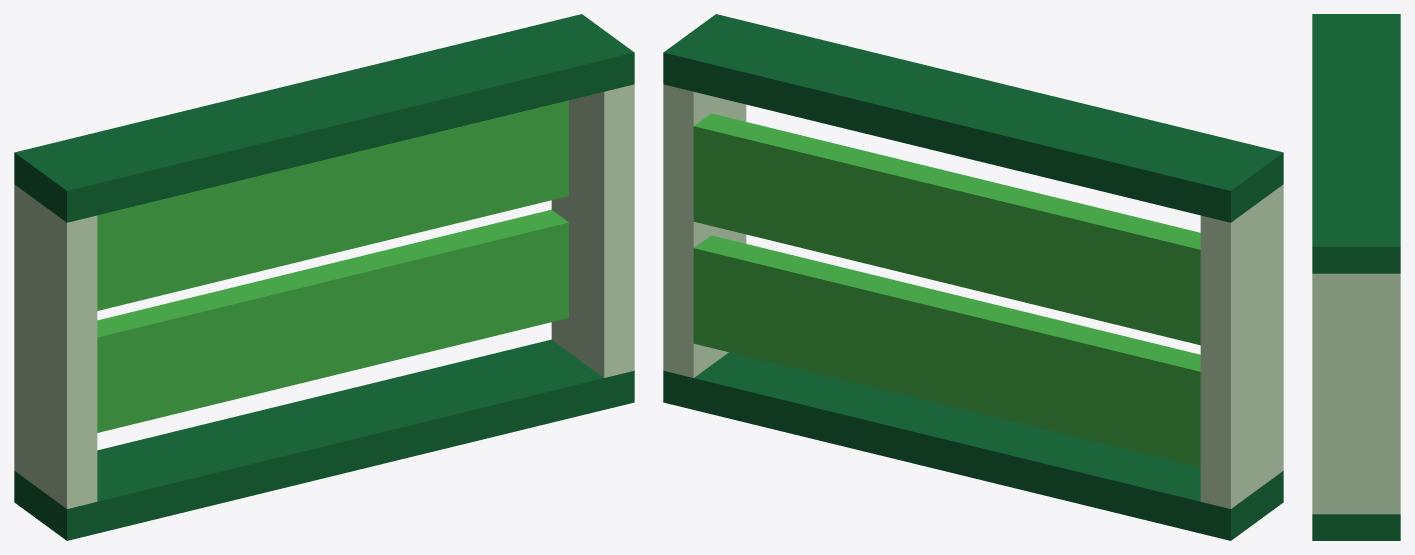
Rendered from tinker.obj.
3 renders of one model, left to right at view 1: azimuth 30°, elevation 25°; view 2: azimuth 150°, elevation 25°; view 3: azimuth 270°, elevation 25°, orthographic. The views are drawn at different scales.
Visible parts, largest first — view 1: group_0_4634441, group_0_1206582, group_0_13165757; view 2: group_0_4634441, group_0_1206582, group_0_13165757; view 3: group_0_1206582, group_0_13165757.
Boxes of the visible parts, box(x1,y1,x2,y2) form: group_0_4634441: box(97, 100, 568, 432); group_0_1206582: box(14, 14, 634, 540); group_0_13165757: box(14, 84, 634, 508); group_0_4634441: box(693, 113, 1200, 467); group_0_1206582: box(663, 14, 1283, 540); group_0_13165757: box(663, 84, 1283, 508); group_0_1206582: box(1312, 14, 1400, 540); group_0_13165757: box(1312, 273, 1400, 514).
Bounding box in the file's own units: 224 × 132 × 36.
